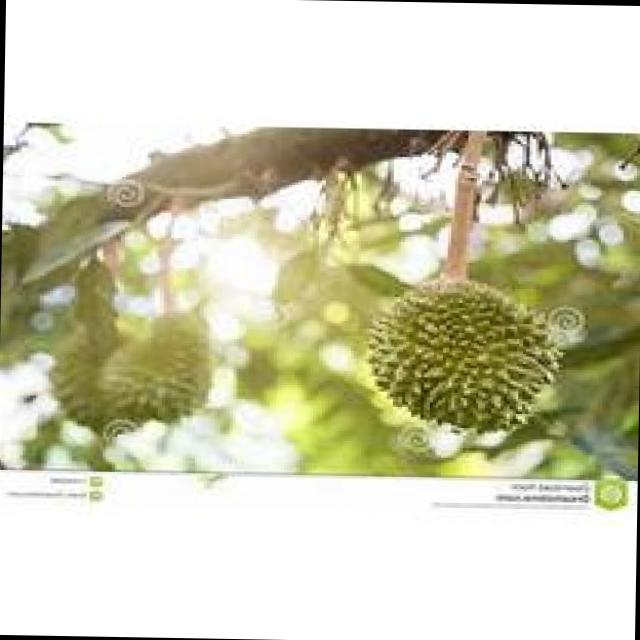fruit: (352, 258, 582, 450), (28, 293, 225, 448)
